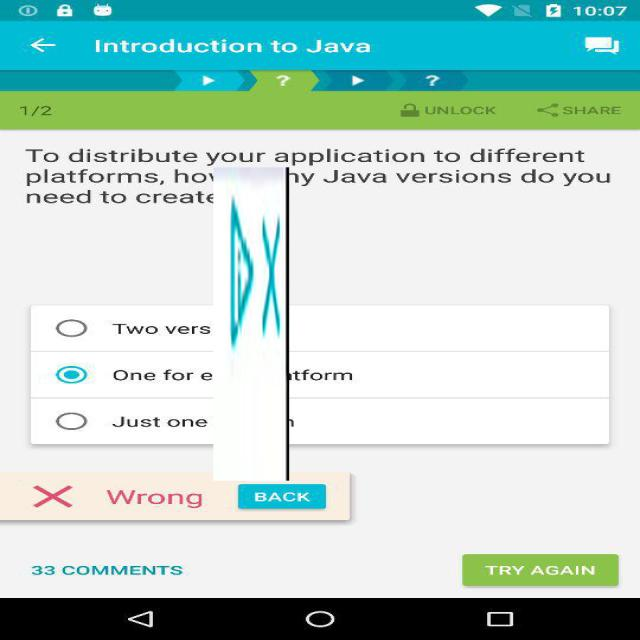sneaking: (213, 167, 290, 481)
